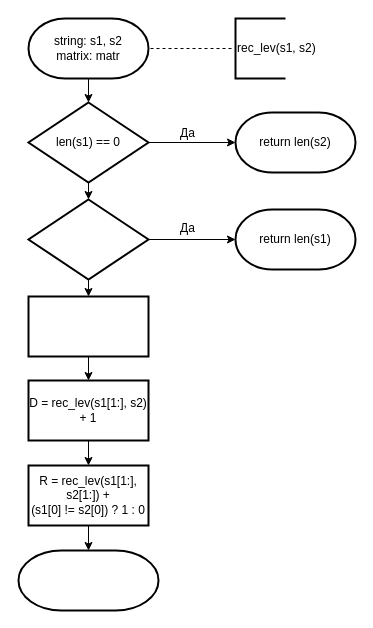
Image size: 373x628. Some labels were removed from this diagram. Each missing label, with the centre of its shape:
I = rec_lev(s1, s2[1:]) + 1: point (88, 326)
len(s2) == 0: point (88, 239)
вернуть min(I, D, R): point (88, 580)
